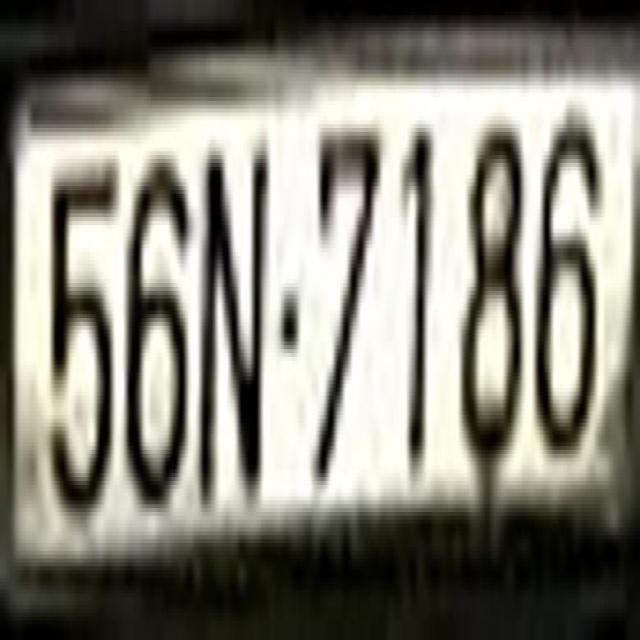1: (402, 124, 431, 462)
5: (51, 174, 111, 488)
6: (536, 120, 594, 454), (129, 147, 181, 489)
7: (316, 112, 379, 485)
8: (463, 128, 522, 446)
N: (203, 178, 266, 496)
